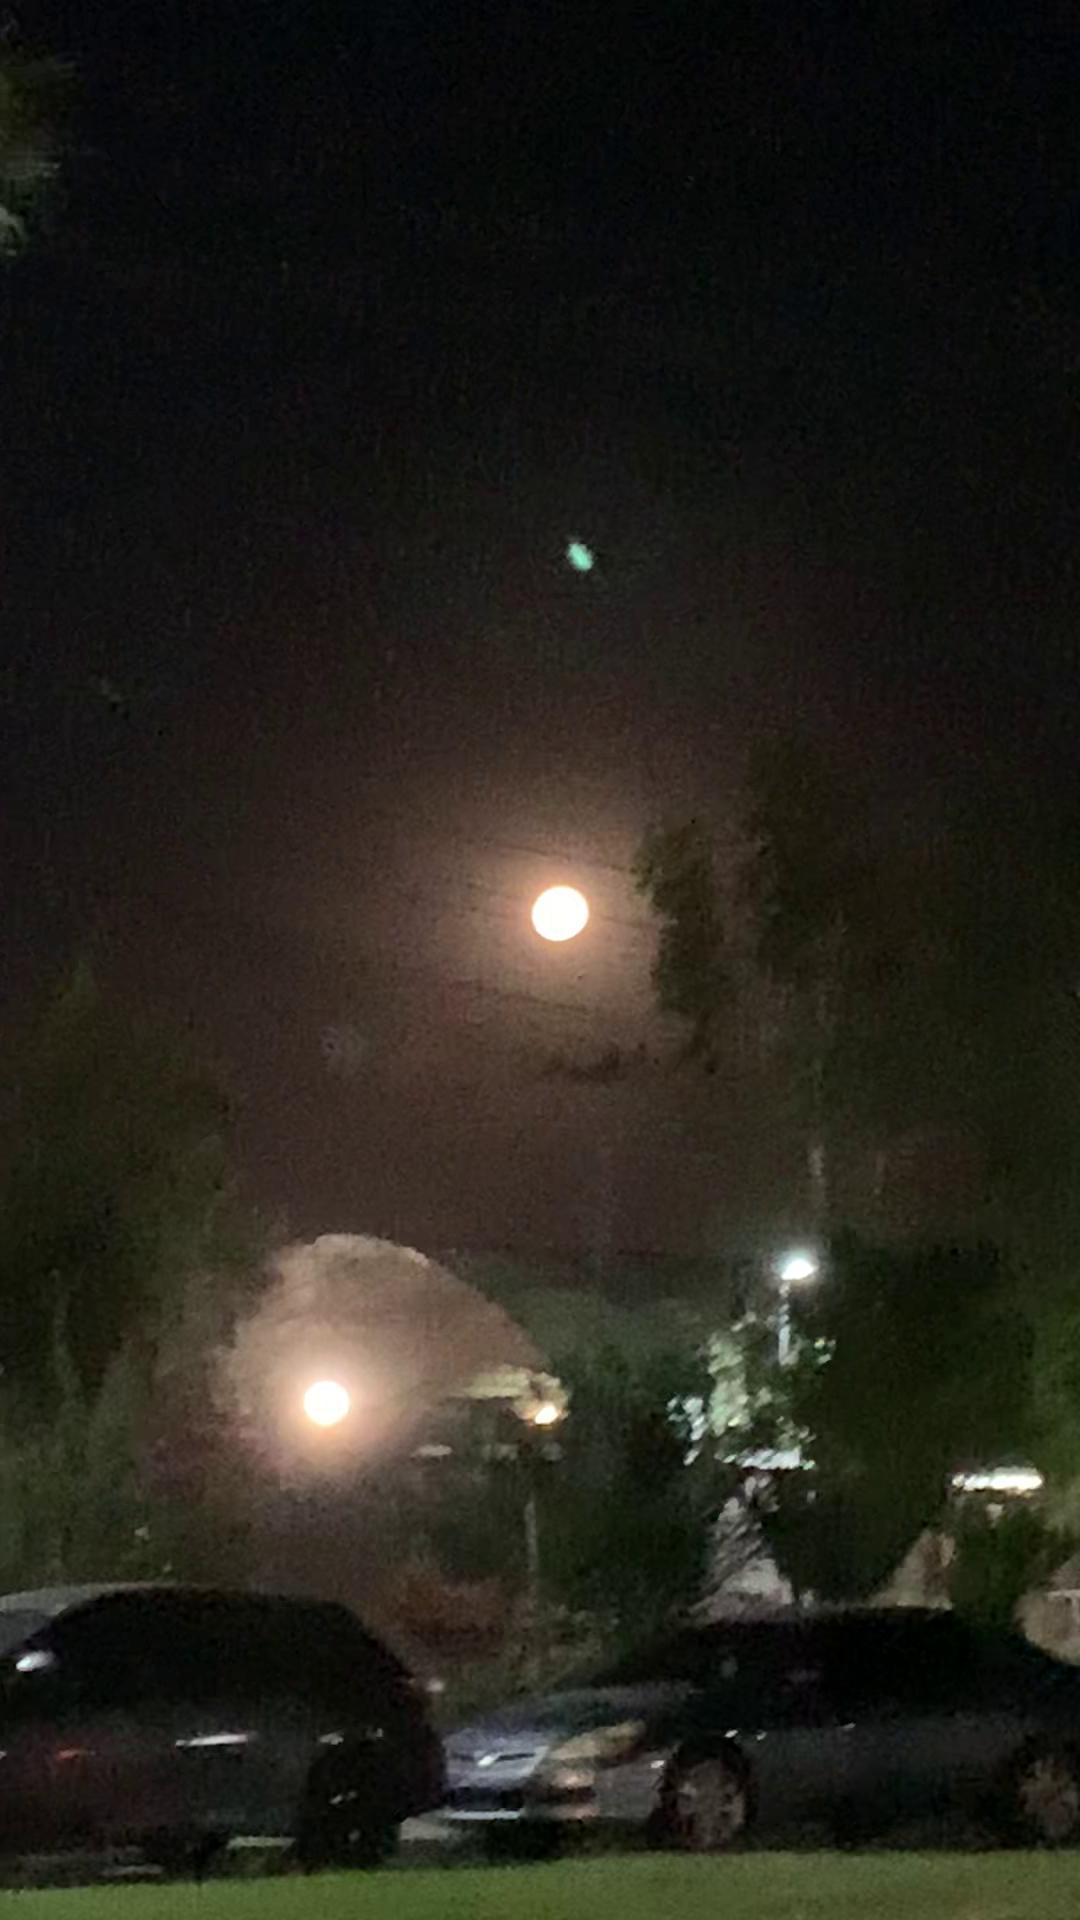moon: (533, 879, 604, 951)
